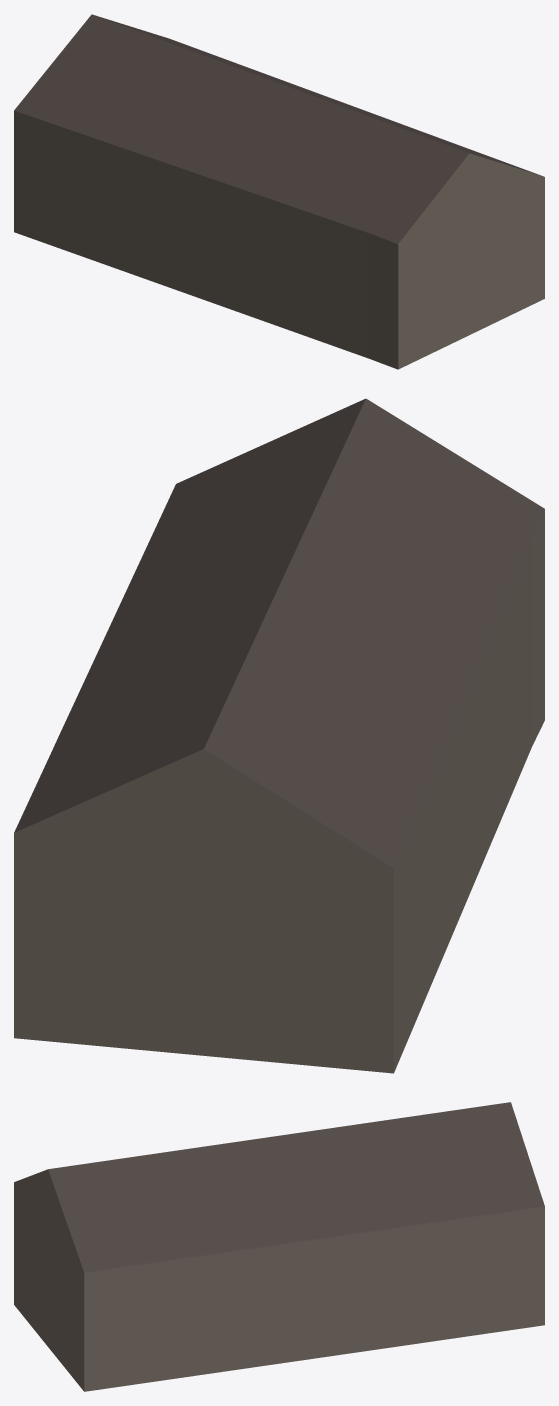
3 renders of one model, top to bottom at view 1: azimuth 30°, elevation 25°; view 2: azimuth 150°, elevation 25°; view 3: azimuth 270°, elevation 25°, orthographic. The views are drawn at different scales.
Visible parts, largest first — view 1: HP-w1512461413; view 2: HP-w1512461413; view 3: HP-w1512461413.
Boxes of the visible parts, x1=… form: HP-w1512461413: x1=14, y1=14, x2=544, y2=369; HP-w1512461413: x1=14, y1=398, x2=544, y2=1073; HP-w1512461413: x1=14, y1=1102, x2=544, y2=1391.
Size of the model in its own units: 17.04 by 8.97 by 24.29.
